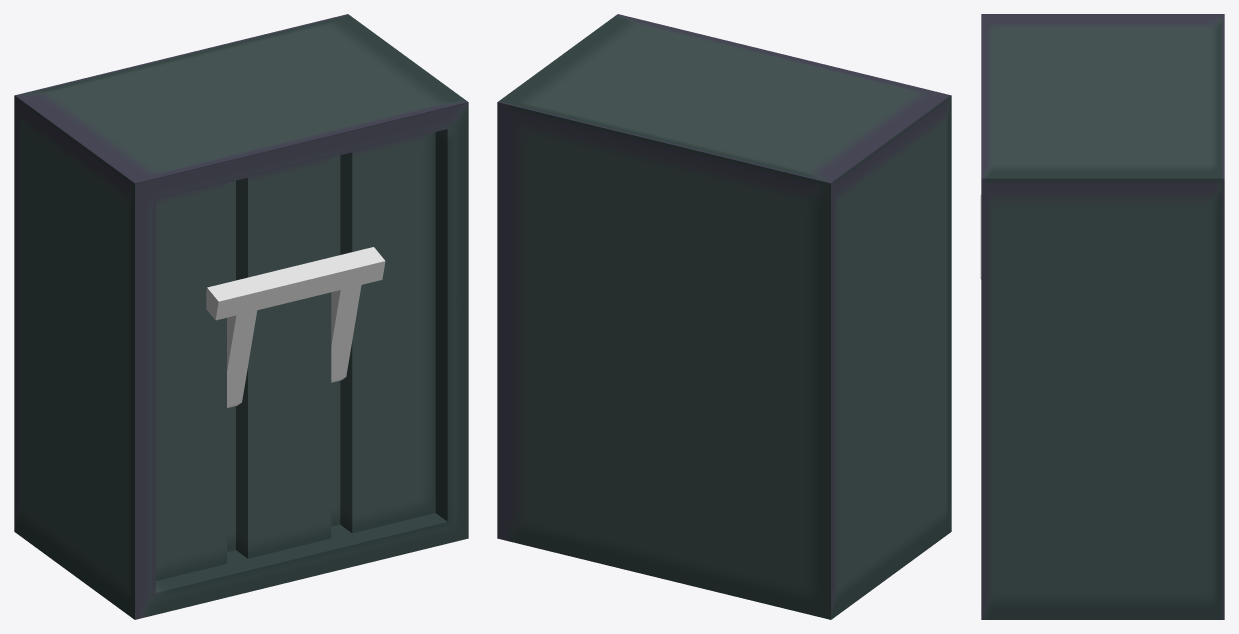
The model's file is Switch.glb.
The picture shows the model from 3 angles, left to right: view 1: azimuth 30°, elevation 25°; view 2: azimuth 150°, elevation 25°; view 3: azimuth 270°, elevation 25°; orthographic projection.
Parts seen in each view (by area): view 1: SwitchBox, SwitchLever; view 2: SwitchBox; view 3: SwitchBox.
Part boxes in pixels (<box>): SwitchBox: <box>14,14,468,619</box>; SwitchLever: <box>206,247,385,407</box>; SwitchBox: <box>497,14,951,619</box>; SwitchBox: <box>981,14,1224,619</box>.
Size of the model in its own units: 1.6 by 2 by 1.
Materials: 1 (1 with a texture image).
